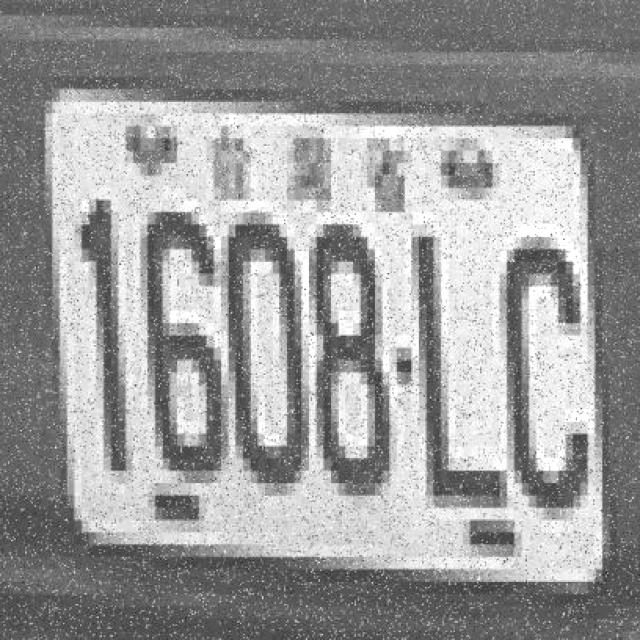licenseplate: (13, 49, 625, 617)
